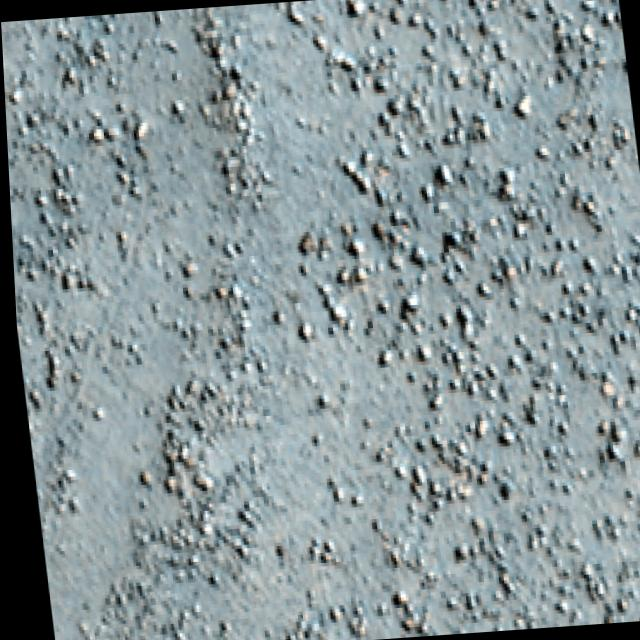Crater: (0, 0, 388, 640)
